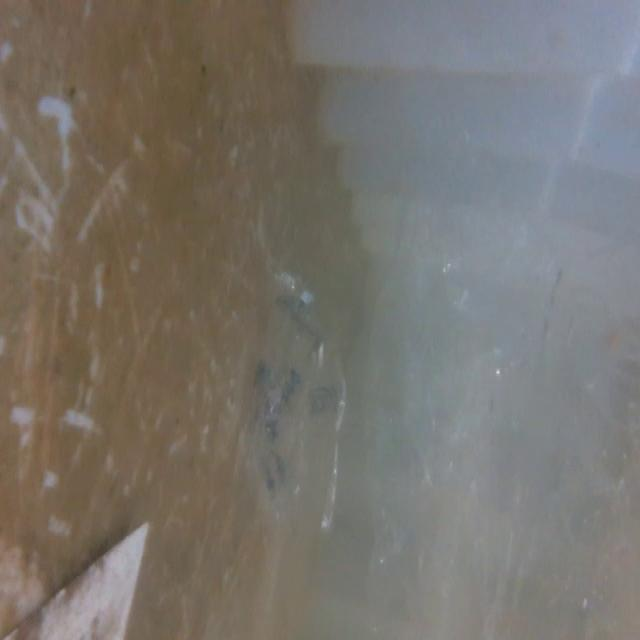plastic bags: (241, 271, 353, 538)
